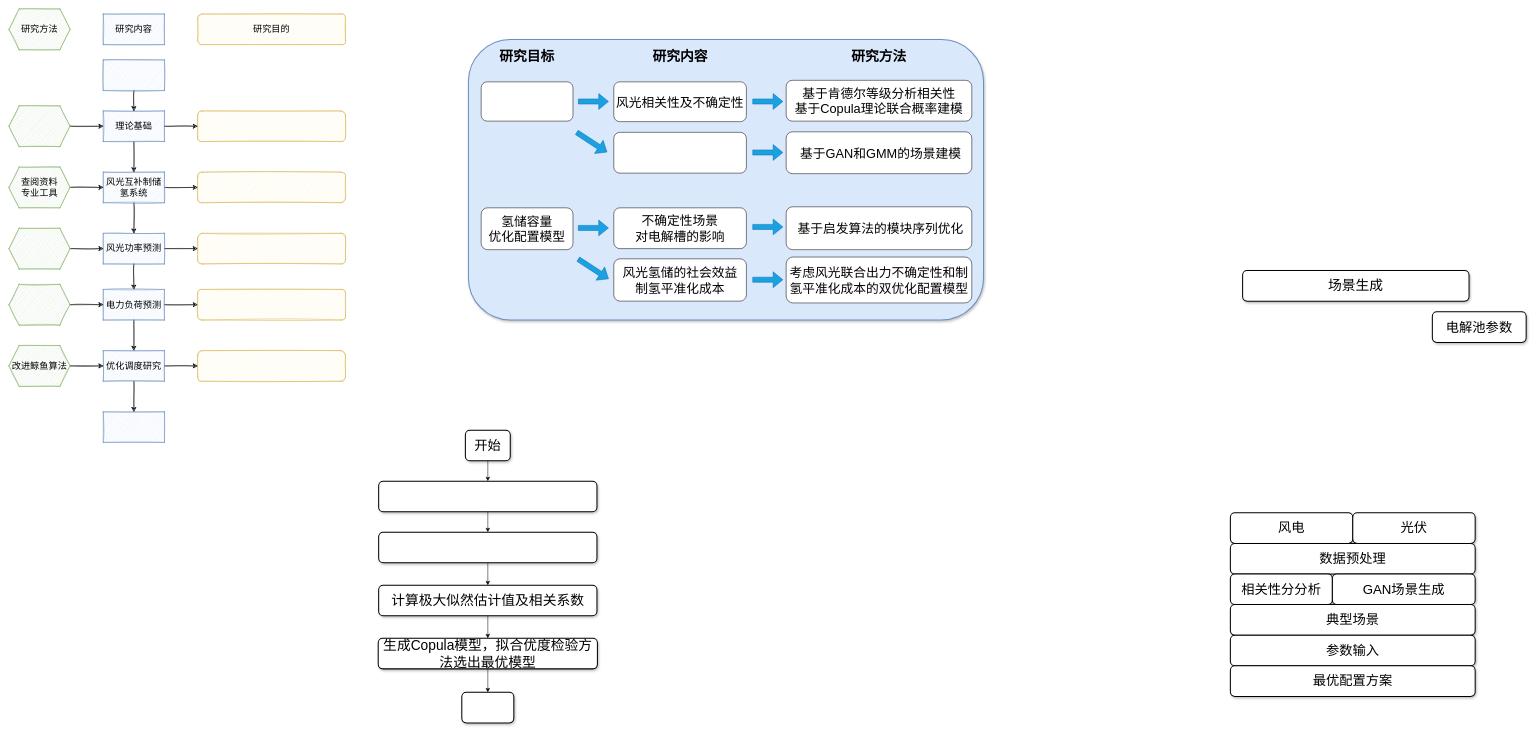
Image size: 1539x736. Some labels were removed from this diagram. Each missing label, with the centre of its shape:
"不确定性场景的生成" belongs at pixel 679 152.
"建立 GrayKite 预测模型" belongs at pixel 39 248.
"建立 Prophet 预测模型" belongs at pixel 39 304.
"建立预测模型用于预测； 改进鲸鱼算法用于优化调度；" belongs at pixel 271 126.
"建立风光互补制储氢系统的 结构和子单元模型" belongs at pixel 271 187.
"总结与展望" belongs at pixel 133 426.
"文献研究法" belongs at pixel 39 126.
"研究背景及意义" belongs at pixel 133 75.
"结束" belongs at pixel 488 708.
"考虑有无锂电池两种优化调度方案" belongs at pixel 271 365.
"计算基于动态项关系的似然函数" belongs at pixel 488 548.
"计算核密度估计函数" belongs at pixel 488 497.
"风光互补制储氢系统电力负荷预测" belongs at pixel 271 304.
"风光互补制储氢系统风光 功率预测" belongs at pixel 271 248.
"风光联合 出力模型" belongs at pixel 527 101.
